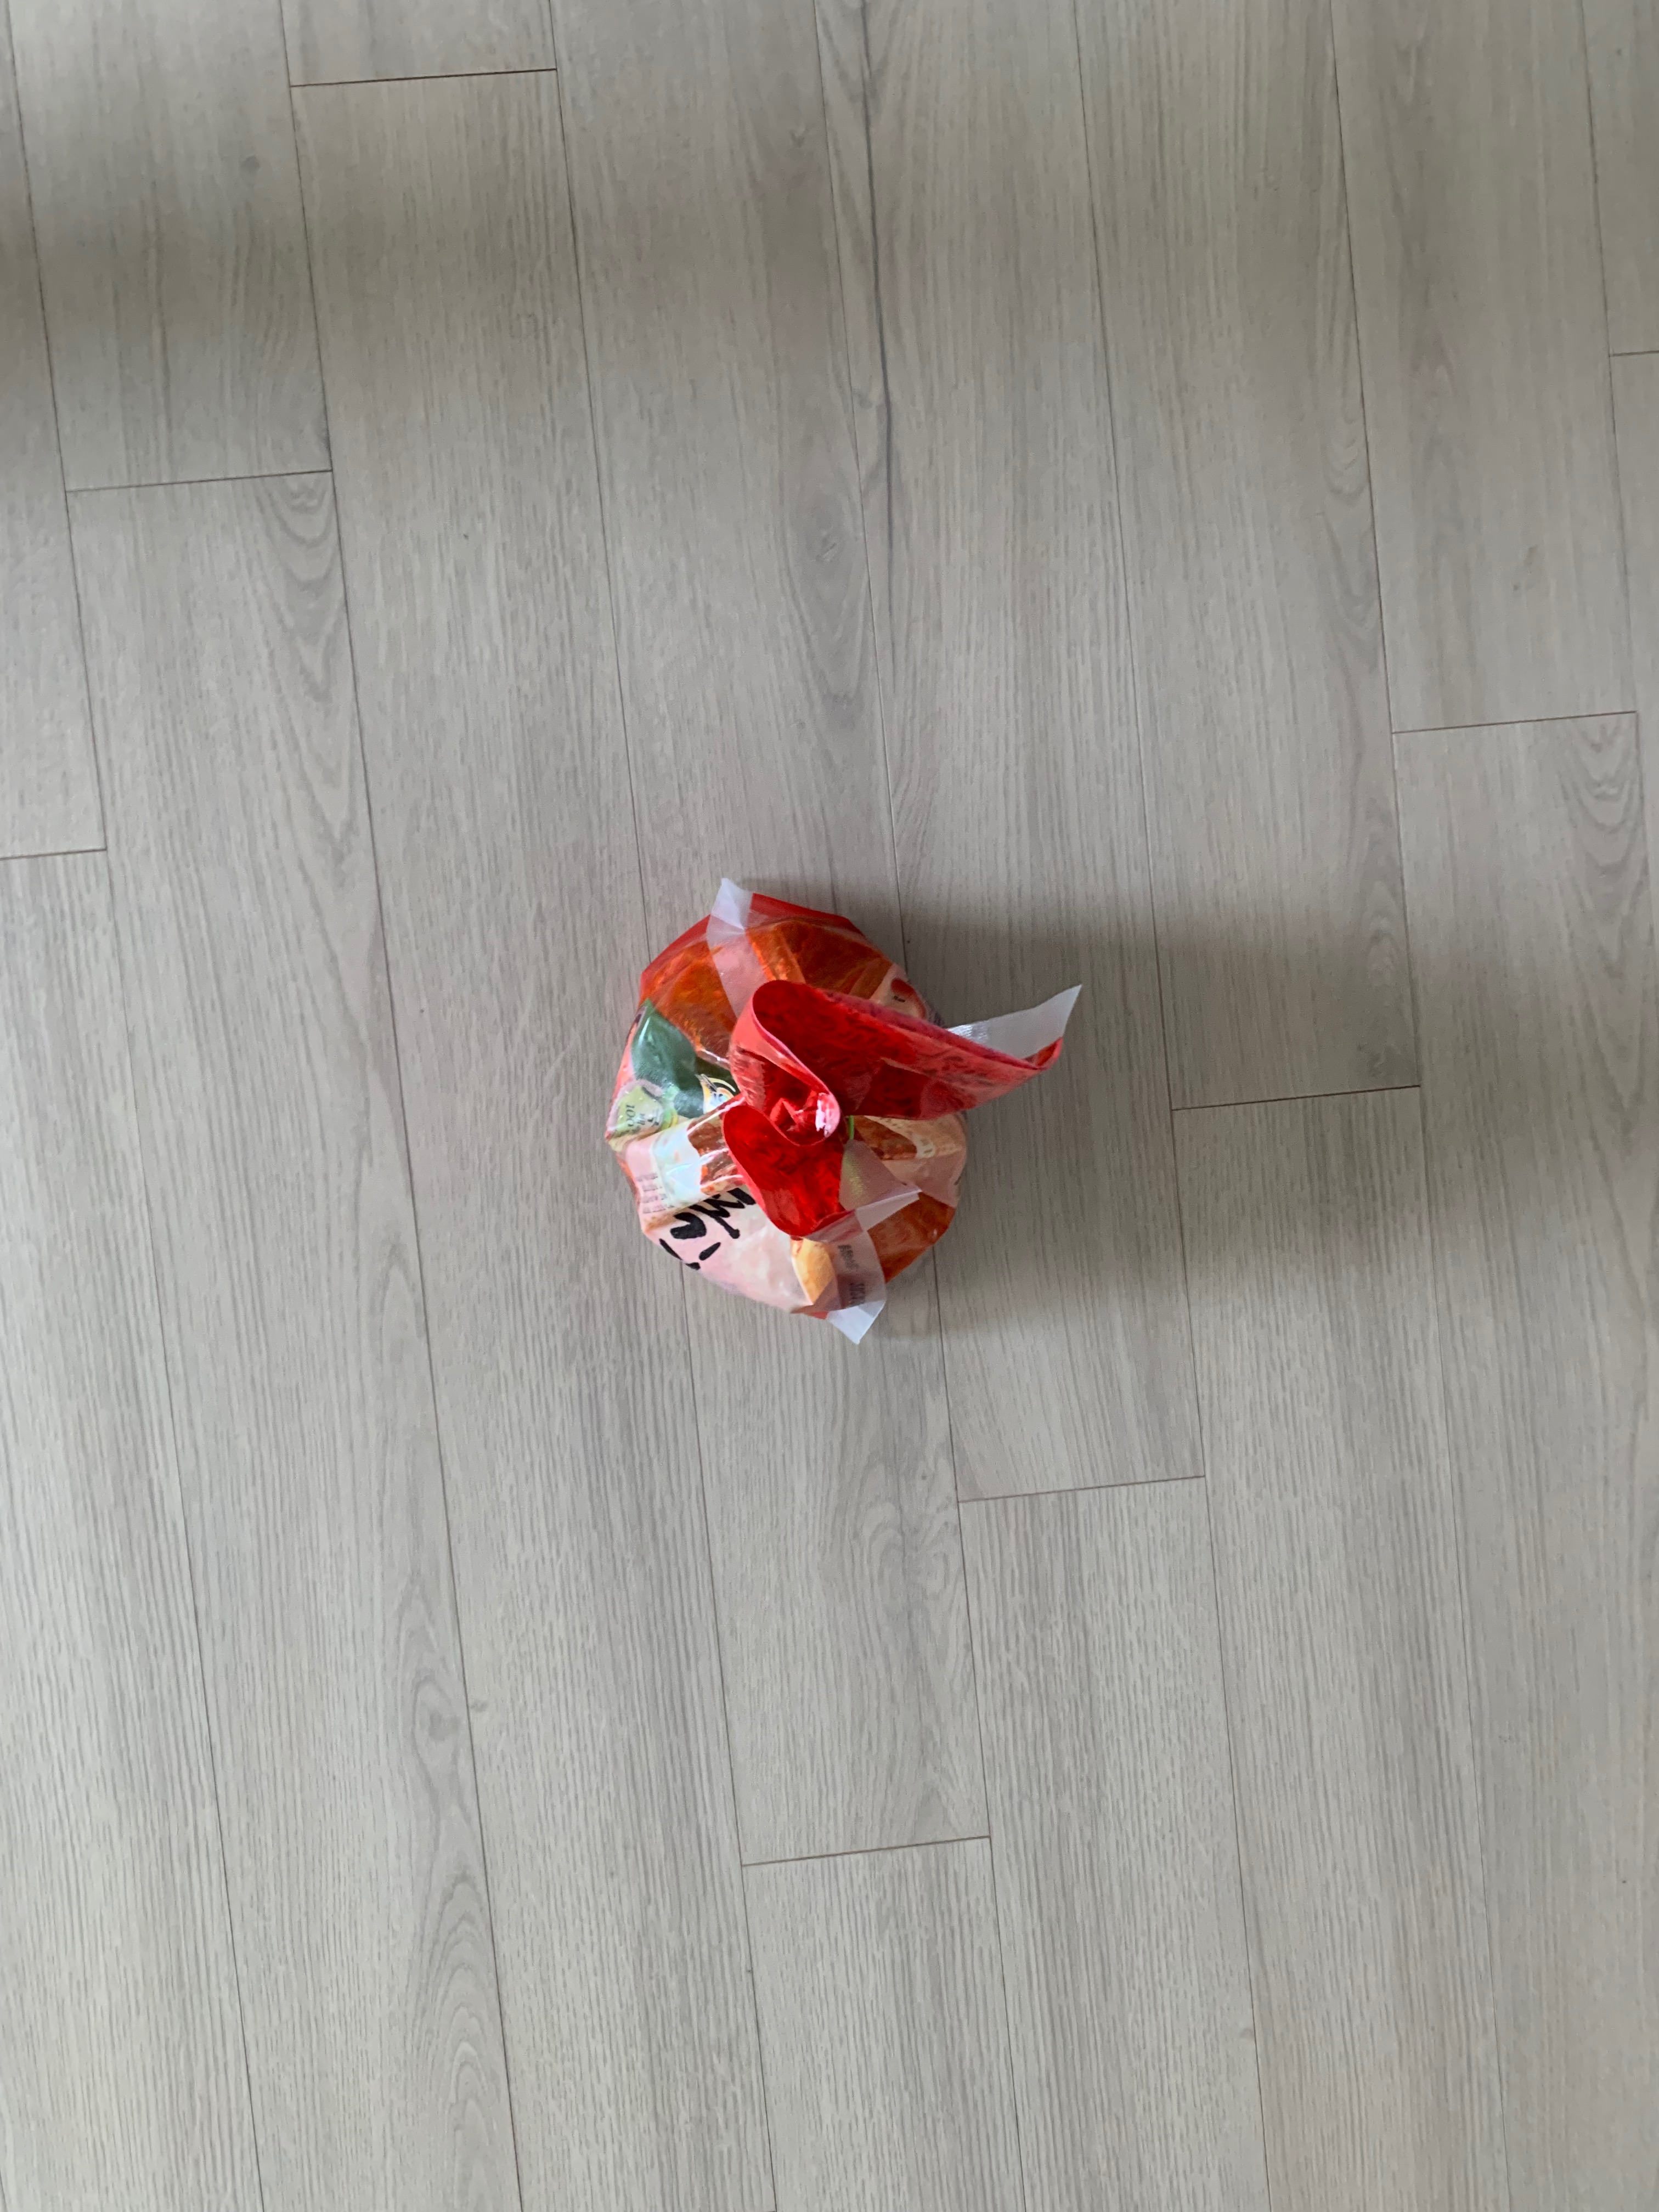kimchi: (605, 897, 1016, 1315)
